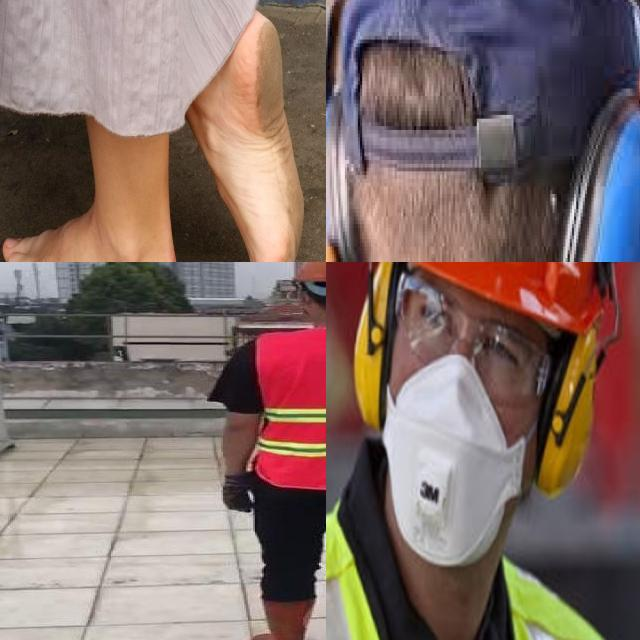Barefoots: (221, 8, 304, 262), (0, 207, 186, 262)
Ear-protection: (326, 0, 640, 262), (356, 262, 602, 583)
No_Ear-Protection: (289, 280, 316, 312)
glasses: (392, 273, 553, 407)
hand_glove: (212, 459, 264, 531)
head_helmet: (371, 262, 640, 321)
person: (326, 262, 640, 640), (205, 262, 326, 640)
